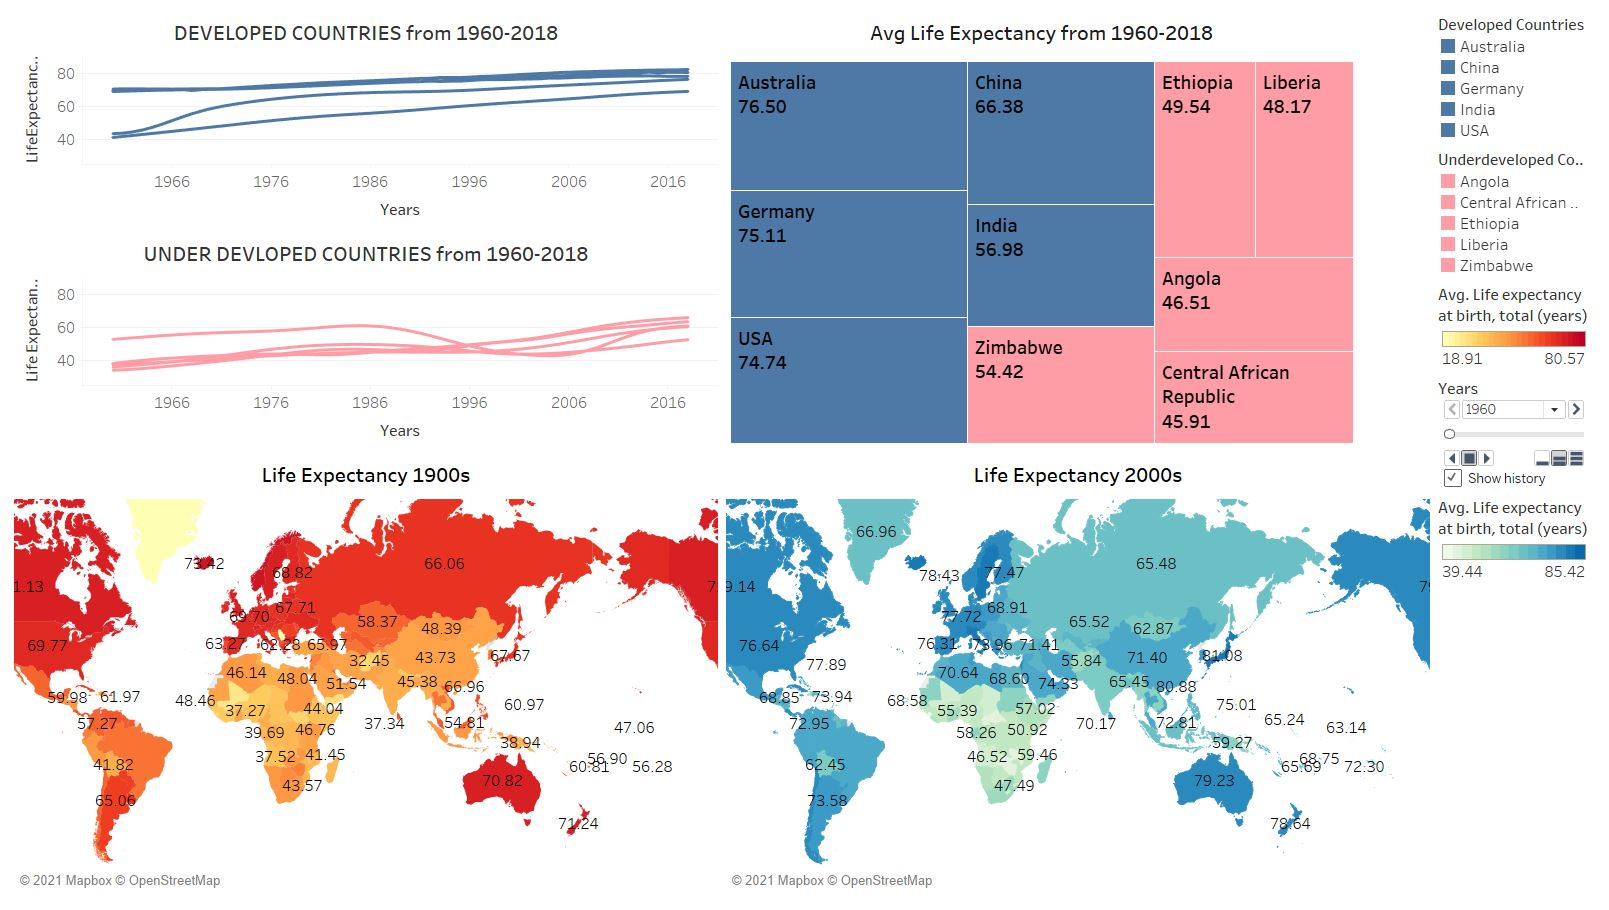

The page's visual inventory and layout, read from the dashboard file:
{"tool":"tableau","page":{"name":"Final_Dashboard (2)","canvas":[1600,900],"ordinal":0},"visuals":[{"type":"worksheet","title":"Developed_Countries ","mark":"Line","rows":["Life expectancy at birth, total (years)"],"cols":["Years"],"box":[8,8,712,221]},{"type":"worksheet","title":"Avg_LifeExpectancy","mark":"Automatic","box":[720,8,712,442]},{"type":"legend","title":"Developed_Countries ","param":"[federated.0y309v712b1eeu18h6inj1278qwd (copy 3)].[none:Country Name:nk]","box":[1432,8,160,135]},{"type":"legend","title":"Underdeveloped_Countries ","param":"[federated.0y309v712b1eeu18h6inj1278qwd (copy 3)].[none:Country Name:nk]","box":[1432,143,160,135]},{"type":"worksheet","title":"Underdeveloped_Countries ","mark":"Line","rows":["Life expectancy at birth, total (years)"],"cols":["Years"],"box":[8,229,712,221]},{"type":"legend","title":"LifeExpectancy_1900s","param":"[federated.0y309v712b1eeu18h6inj1278qwd (copy 3)].[avg:Life expectancy at birth,","box":[1432,278,160,94]},{"type":"currpage","title":"LifeExpectancy_1900s","box":[1432,372,160,119]},{"type":"worksheet","title":"LifeExpectancy_1900s","mark":"Multipolygon","box":[8,450,712,442]},{"type":"worksheet","title":"LifeExpectancy_2000s ","mark":"Multipolygon","box":[720,450,712,442]},{"type":"legend","title":"LifeExpectancy_2000s ","param":"[federated.0y309v712b1eeu18h6inj1278qwd (copy 3)].[avg:Life expectancy at birth,","box":[1432,491,160,94]}]}

Visuals, with their boxes in screenshot pixels (x1, y1, x2, y2), scaled from the page's 1600x900 canvas onto the 1609x910 screenshot:
"Developed_Countries " worksheet (Line marks): left=8, top=8, right=724, bottom=232
"Avg_LifeExpectancy" worksheet: left=724, top=8, right=1440, bottom=455
"Developed_Countries " legend: left=1440, top=8, right=1601, bottom=145
"Underdeveloped_Countries " legend: left=1440, top=145, right=1601, bottom=281
"Underdeveloped_Countries " worksheet (Line marks): left=8, top=232, right=724, bottom=455
"LifeExpectancy_1900s" legend: left=1440, top=281, right=1601, bottom=376
"LifeExpectancy_1900s" currpage: left=1440, top=376, right=1601, bottom=496
"LifeExpectancy_1900s" worksheet (Multipolygon marks): left=8, top=455, right=724, bottom=902
"LifeExpectancy_2000s " worksheet (Multipolygon marks): left=724, top=455, right=1440, bottom=902
"LifeExpectancy_2000s " legend: left=1440, top=496, right=1601, bottom=592
